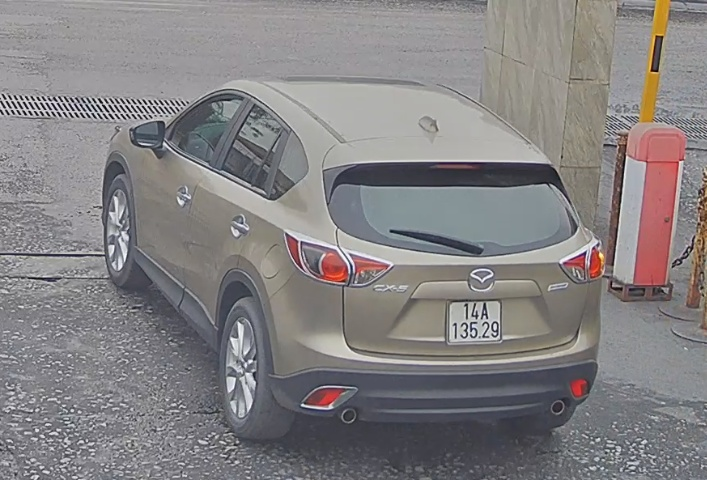vehicle plate: (440, 293, 509, 349)
